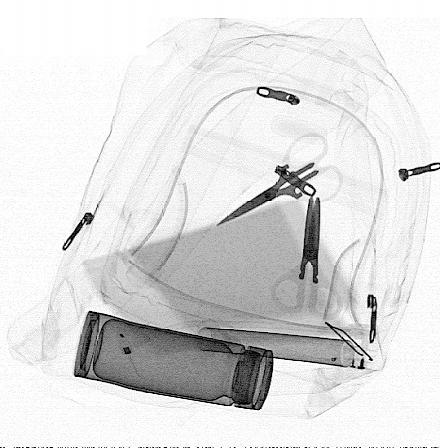Scissors: (214, 131, 344, 230), (269, 194, 345, 321)
